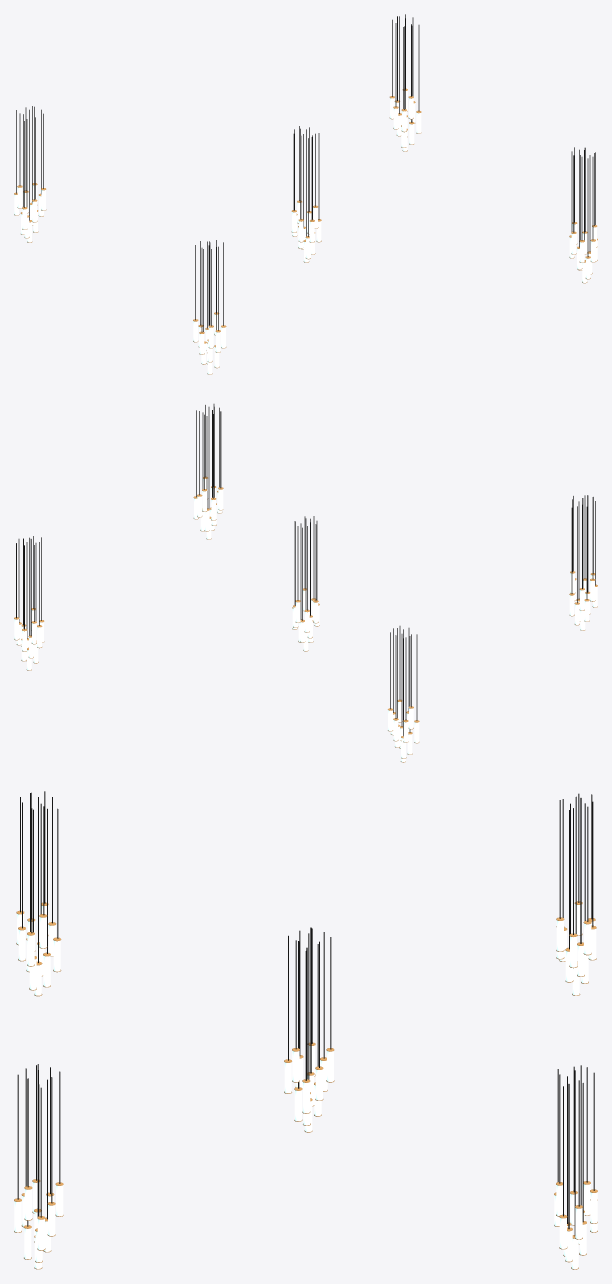
File: Chandeliers.glb
The picture shows the model from 3 angles, top to bottom: view 1: azimuth 30°, elevation 25°; view 2: azimuth 150°, elevation 25°; view 3: azimuth 270°, elevation 25°; orthographic projection. The views are drawn at different scales.
Parts seen in each view (by area): view 1: Circle.005; view 2: Circle.005; view 3: Circle.005.
Part boxes in pixels (<box>): Circle.005: <box>16,14,595,332</box>; Circle.005: <box>16,404,595,736</box>; Circle.005: <box>17,791,594,1236</box>.
Size of the model in its own units: 12.15 by 3.85 by 10.21.
